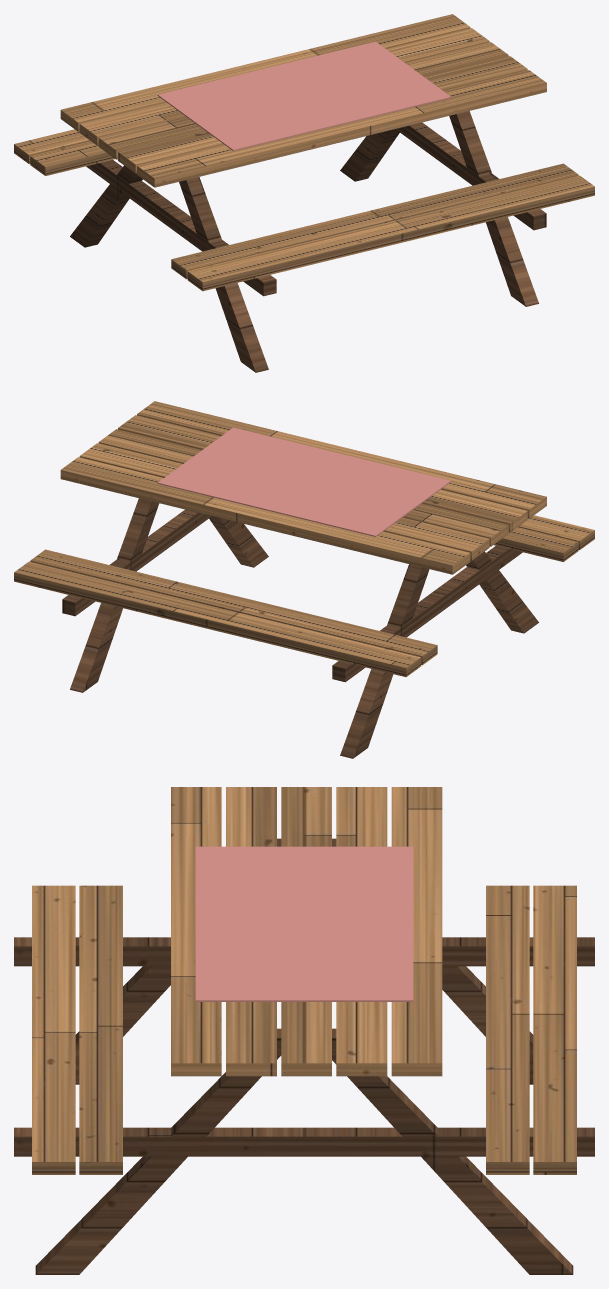
Rendered from picnic_table.glb.
3 views of the same model, one above another, from view 1: azimuth 30°, elevation 25°; view 2: azimuth 150°, elevation 25°; view 3: azimuth 270°, elevation 25° (orthographic). The views are drawn at different scales.
Parts seen in each view (by area): view 1: picnic_table_wood, picnic_table_cloth_r, picnic_table_dkwood; view 2: picnic_table_wood, picnic_table_cloth_r, picnic_table_dkwood; view 3: picnic_table_wood, picnic_table_dkwood, picnic_table_cloth_r.
Part boxes in pixels (bbox=[...]): picnic_table_wood: bbox=[14, 14, 594, 291]; picnic_table_cloth_r: bbox=[157, 41, 451, 150]; picnic_table_dkwood: bbox=[70, 111, 546, 372]; picnic_table_wood: bbox=[14, 401, 594, 676]; picnic_table_cloth_r: bbox=[157, 427, 451, 536]; picnic_table_dkwood: bbox=[62, 498, 538, 758]; picnic_table_wood: bbox=[32, 787, 576, 1174]; picnic_table_dkwood: bbox=[14, 838, 594, 1274]; picnic_table_cloth_r: bbox=[195, 846, 413, 1001].
Bounding box in the file's own units: 1.8 × 0.765 × 1.6.
3 materials, 2 textured.
